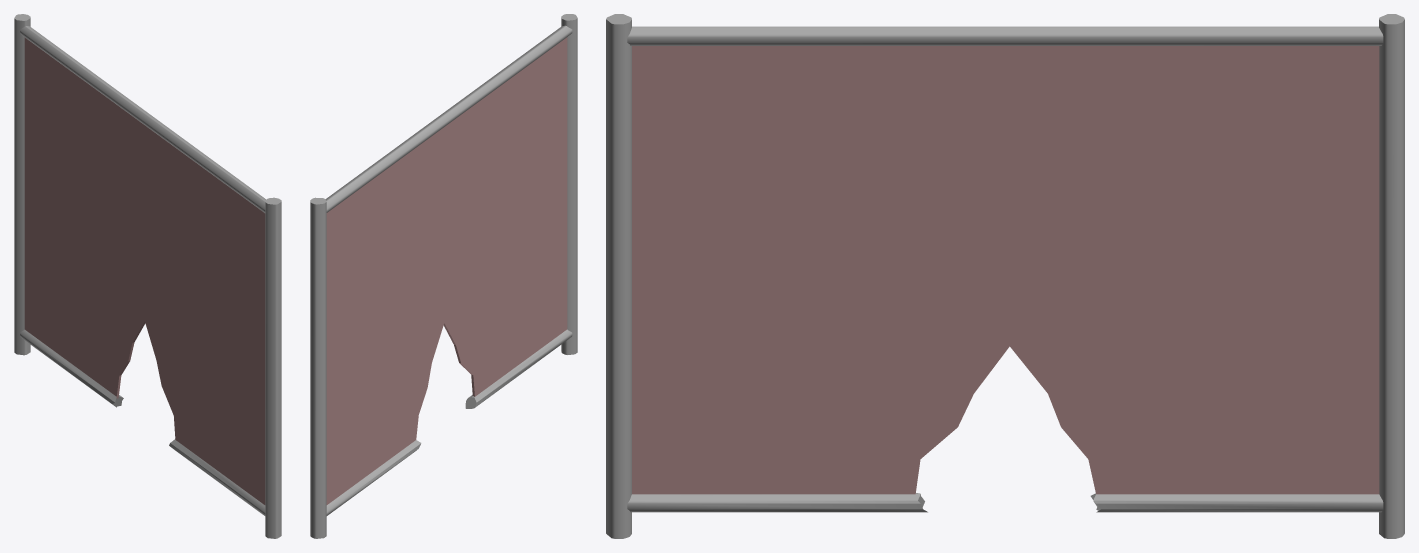
The model's file is O_Enviroment_ChainLinkFenceBroken.fbx.
The picture shows the model from 3 angles, left to right: view 1: azimuth 30°, elevation 25°; view 2: azimuth 150°, elevation 25°; view 3: azimuth 270°, elevation 25°; orthographic projection. The views are drawn at different scales.
Parts seen in each view (by area): view 1: polySurface18; view 2: polySurface18; view 3: polySurface18.
Boxes of the visible parts, x1,y1,x2,y2 form: polySurface18: [14, 14, 281, 538]; polySurface18: [310, 14, 577, 538]; polySurface18: [606, 14, 1404, 538].
Size of the model in its own units: 0.1567 by 3.6 by 5.07.
